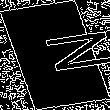N_W: (10, 30, 100, 80)
